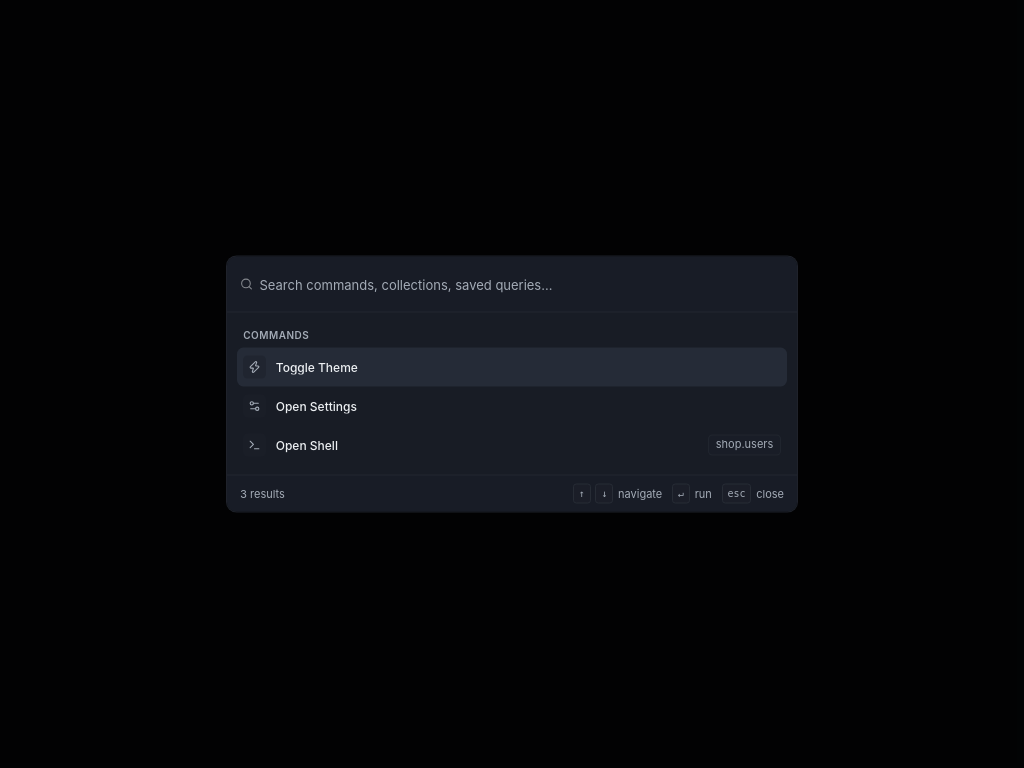
CommandPalette › matches keywords too
Type "mongosh" into the dropdown with test id "command-palette-input" at (522, 284), box [260, 266, 784, 302]
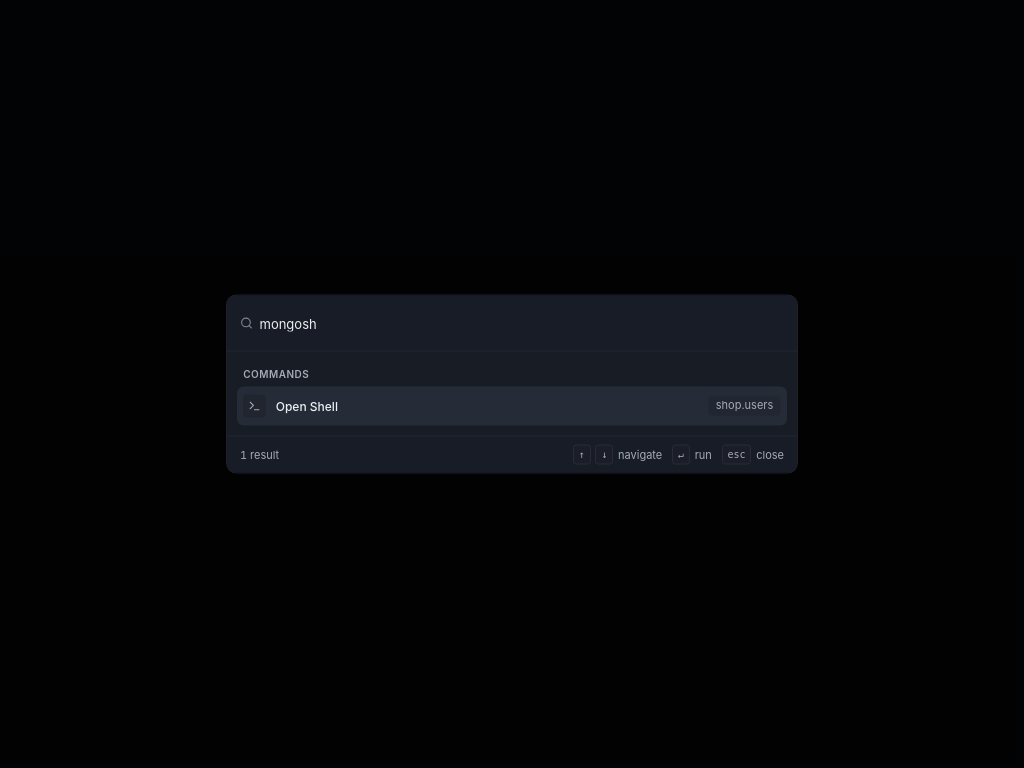
Check: the text "Open Shell" is shown, box [276, 398, 338, 413]
Check: the option "Toggle Theme" is gone
